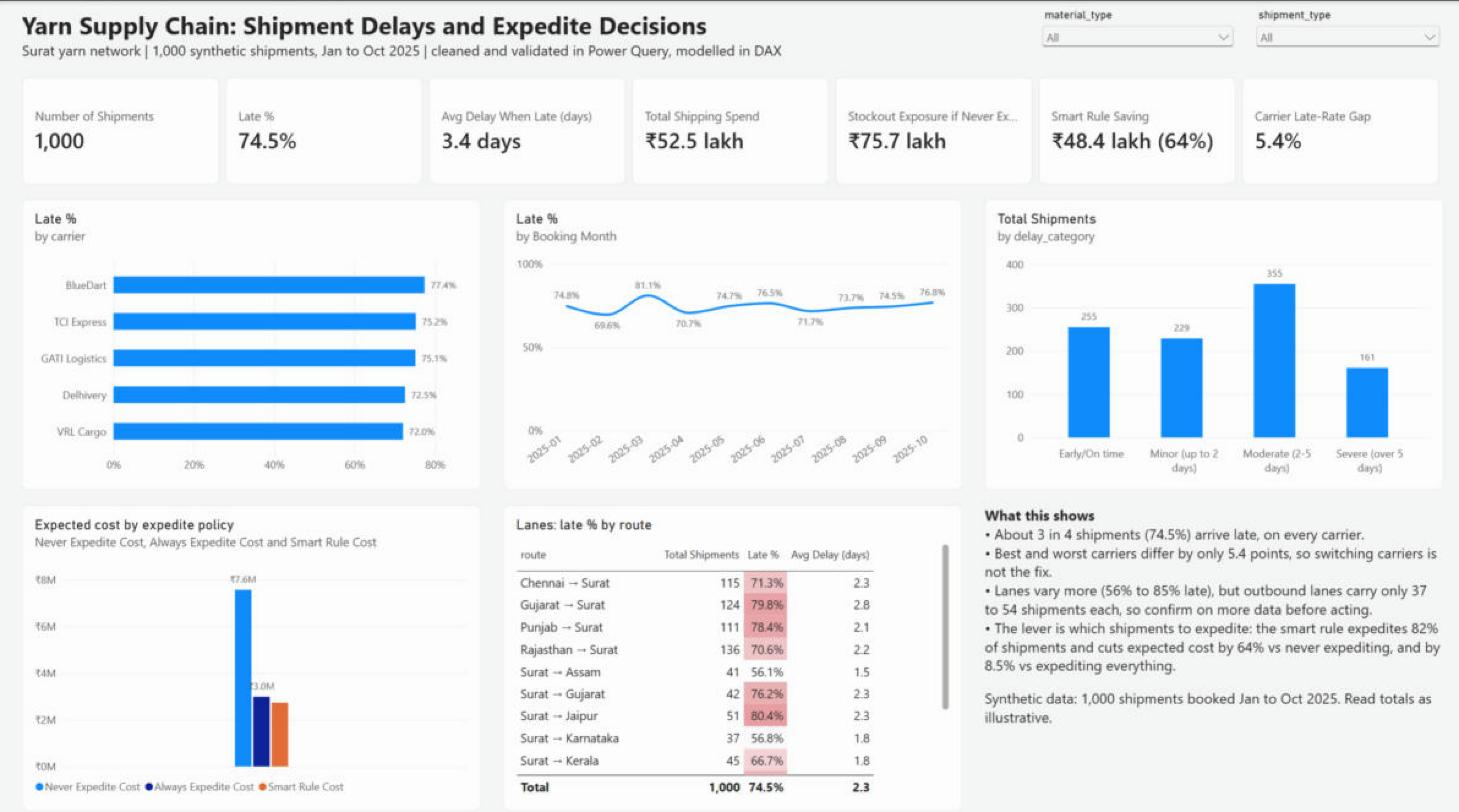

The page's visual inventory and layout, read from the dashboard file:
{"tool":"powerbi","page":{"name":"Page 1","canvas":[1920,1080],"ordinal":0},"visuals":[{"type":"cardVisual","fields":{"Data":["Shipments.Number of Shipments","Shipments.Late %","Shipments.Avg Delay When Late (days)","Shipments.Total Shipping Spend","Shipments.Stockout Exposure if Never Expedited","Shipments.Smart Rule Saving","Shipments.Carrier Late-Rate Gap"]},"box":[30,100,1860,140],"z":0},{"type":"clusteredBarChart","fields":{"Category":["Shipments.carrier"],"Y":["Shipments.Late %"]},"box":[30,260,600,380],"z":1},{"type":"lineChart","fields":{"Category":["Shipments.Booking Month"],"Y":["Shipments.Late %"]},"box":[660,260,600,380],"z":2},{"type":"clusteredColumnChart","fields":{"Category":["Shipments.delay_category"],"Y":["Shipments.Total Shipments"]},"box":[1290,260,600,380],"z":3},{"type":"clusteredColumnChart","title":"Expected cost by expedite policy","fields":{"Y":["Shipments.Never Expedite Cost","Shipments.Always Expedite Cost","Shipments.Smart Rule Cost"]},"box":[30,660,600,400],"z":4},{"type":"tableEx","title":"Lanes: late % by route","fields":{"Values":["Shipments.route","Shipments.Total Shipments","Shipments.Late %","Shipments.Avg Delay (days)"]},"box":[660,660,600,400],"z":5},{"type":"textbox","box":[1290,660,600,400],"z":6},{"type":"textbox","box":[30,10,1300,80],"z":7},{"type":"slicer","fields":{"Values":["Shipments.material_type"]},"box":[1360,10,260,80],"z":8},{"type":"slicer","fields":{"Values":["Shipments.shipment_type"]},"box":[1640,10,250,80],"z":9}]}

Visuals, with their boxes in screenshot pixels (x1, y1, x2, y2), scaled from the page's 1920x1080 canvas onto the 1459x812 screenshot:
cardVisual - Shipments.Number of Shipments x Shipments.Late %: rect(23, 75, 1436, 180)
clusteredBarChart - Shipments.carrier x Shipments.Late %: rect(23, 195, 479, 481)
lineChart - Shipments.Booking Month x Shipments.Late %: rect(502, 195, 957, 481)
clusteredColumnChart - Shipments.delay_category x Shipments.Total Shipments: rect(980, 195, 1436, 481)
"Expected cost by expedite policy" clusteredColumnChart: rect(23, 496, 479, 797)
"Lanes: late % by route" tableEx: rect(502, 496, 957, 797)
textbox: rect(980, 496, 1436, 797)
textbox: rect(23, 8, 1011, 68)
slicer - Shipments.material_type: rect(1033, 8, 1231, 68)
slicer - Shipments.shipment_type: rect(1246, 8, 1436, 68)
